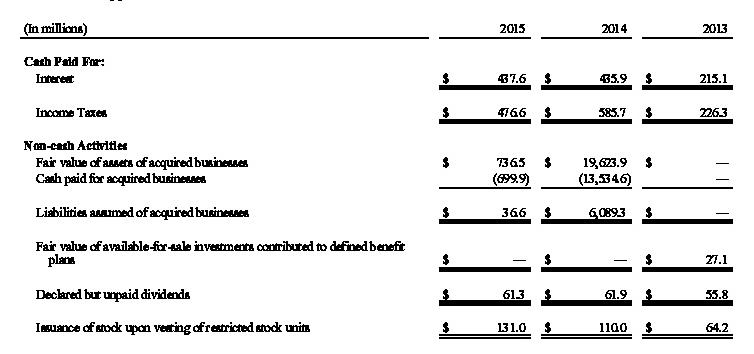table: (0, 0, 754, 354)
